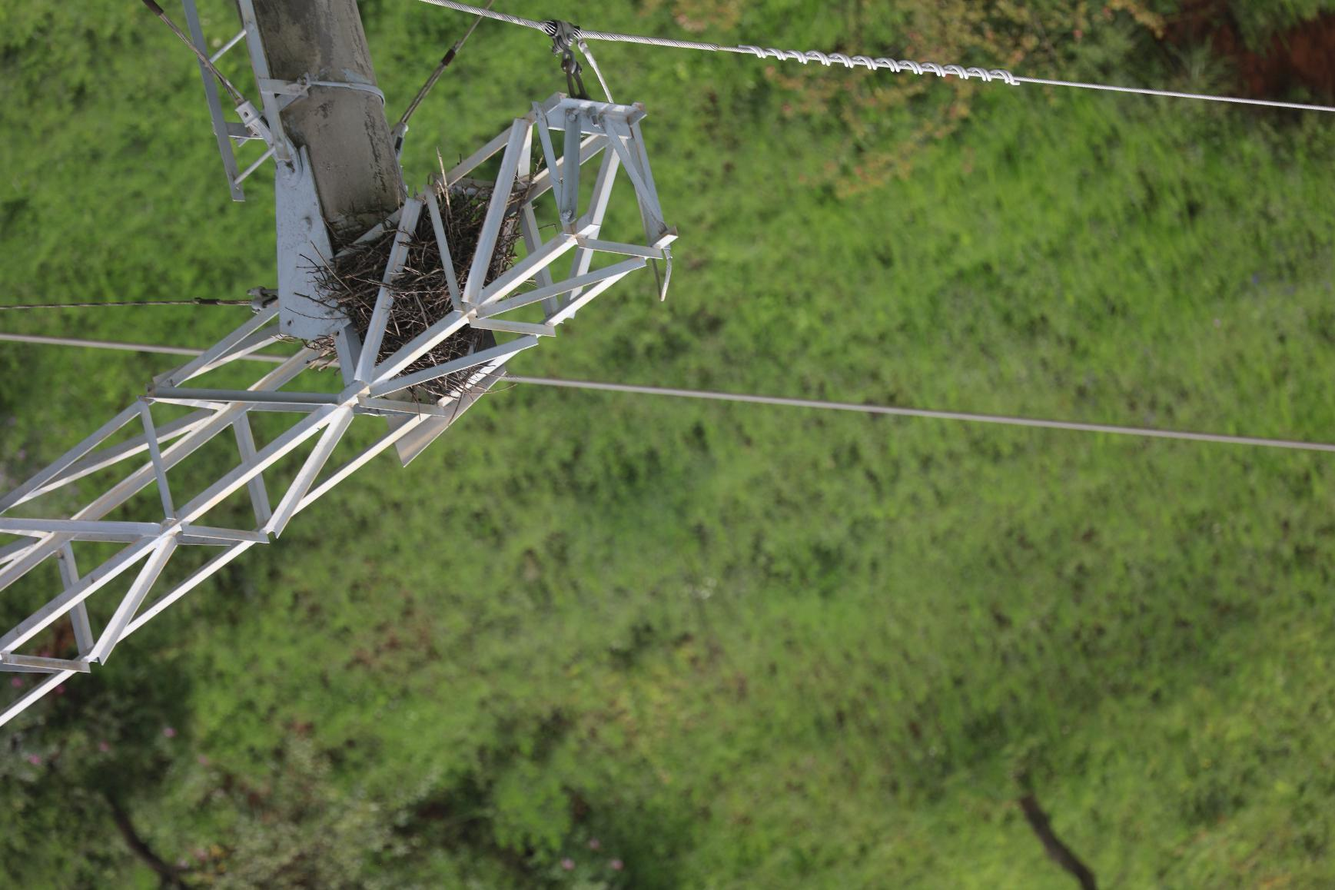nest: (311, 179, 534, 404)
